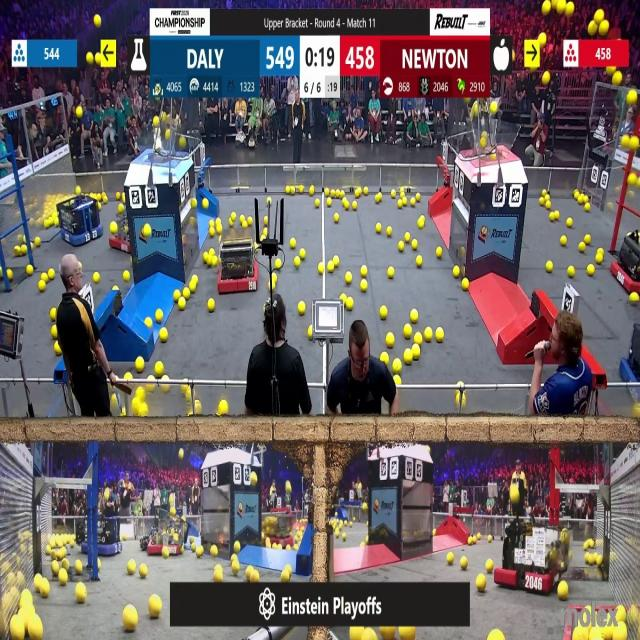ball_airborne: (511, 485, 521, 503), (598, 19, 608, 36), (553, 0, 565, 12), (588, 20, 597, 36), (630, 137, 640, 151), (628, 91, 638, 105), (614, 72, 623, 85), (541, 2, 549, 15), (540, 72, 548, 85), (565, 2, 573, 15), (86, 54, 94, 67), (250, 471, 258, 484), (622, 136, 630, 148), (595, 10, 603, 22), (538, 33, 545, 46), (490, 103, 498, 114), (628, 174, 636, 185), (95, 14, 102, 26), (472, 103, 478, 116), (76, 106, 82, 118), (152, 116, 158, 126), (180, 138, 186, 148), (163, 112, 169, 122), (481, 139, 487, 148), (179, 450, 184, 460), (491, 152, 496, 160), (482, 131, 487, 138), (165, 130, 168, 138)
ball_ground: (125, 608, 138, 633), (148, 596, 160, 619), (558, 583, 569, 601), (76, 585, 86, 604), (247, 568, 259, 582), (399, 627, 413, 639), (478, 574, 487, 591), (154, 360, 163, 376), (40, 583, 49, 599), (350, 627, 362, 639), (214, 566, 223, 581), (218, 402, 227, 417), (618, 606, 626, 622), (393, 359, 402, 373), (136, 356, 144, 371), (193, 403, 201, 418), (138, 405, 148, 417), (424, 328, 433, 341), (402, 351, 411, 364), (489, 631, 502, 640), (411, 310, 419, 324), (128, 561, 136, 575), (60, 570, 68, 584), (386, 335, 394, 348), (161, 328, 169, 341), (413, 334, 422, 345), (435, 328, 442, 342), (140, 564, 147, 578), (233, 560, 240, 574), (210, 544, 218, 556), (486, 560, 494, 572), (178, 299, 186, 311), (282, 569, 290, 581), (403, 324, 410, 337), (413, 346, 420, 359), (189, 279, 196, 292), (51, 561, 58, 574), (630, 292, 639, 302), (588, 266, 596, 277), (38, 281, 46, 292), (208, 300, 215, 312), (346, 273, 353, 285), (359, 280, 366, 292), (155, 310, 162, 322), (55, 344, 62, 356), (381, 307, 388, 319), (460, 558, 467, 570), (346, 300, 353, 312), (634, 406, 640, 420), (62, 560, 70, 570), (572, 630, 580, 640), (51, 325, 57, 338), (50, 309, 56, 322), (76, 561, 82, 574), (388, 268, 395, 279), (596, 253, 603, 264), (94, 273, 101, 284), (298, 303, 304, 315), (448, 553, 454, 565), (360, 266, 366, 278), (419, 216, 425, 228), (545, 263, 552, 273), (275, 258, 282, 268), (183, 288, 190, 298), (203, 200, 210, 210), (394, 376, 401, 386), (110, 222, 117, 232), (28, 266, 34, 277), (122, 271, 128, 282), (462, 279, 468, 290), (308, 326, 314, 337), (235, 541, 241, 552), (318, 264, 324, 275), (454, 268, 460, 279), (382, 352, 388, 363), (48, 270, 54, 280), (290, 239, 296, 249), (435, 248, 441, 258), (561, 236, 567, 246), (298, 249, 304, 259), (568, 268, 574, 278), (35, 238, 41, 248), (578, 243, 584, 253), (293, 257, 299, 267), (146, 318, 152, 328), (204, 252, 210, 262), (335, 256, 341, 266), (174, 289, 180, 299), (195, 548, 201, 558), (344, 200, 350, 210), (164, 550, 170, 560), (14, 245, 20, 255), (179, 544, 185, 554), (310, 185, 316, 195), (22, 246, 29, 254), (190, 543, 195, 554), (566, 218, 572, 227), (586, 236, 592, 245), (117, 205, 123, 214), (403, 234, 409, 243), (212, 258, 218, 267), (544, 201, 550, 210), (271, 282, 277, 291), (355, 188, 361, 197), (413, 240, 418, 250), (417, 256, 422, 266), (398, 242, 403, 252), (7, 270, 12, 280), (387, 226, 392, 236), (327, 264, 332, 274), (551, 212, 556, 222), (352, 202, 357, 212), (377, 192, 382, 202), (555, 211, 560, 221), (76, 185, 81, 195), (341, 292, 347, 300), (335, 214, 341, 222), (585, 204, 591, 212), (396, 200, 402, 208), (362, 502, 368, 510), (264, 226, 270, 234), (190, 200, 196, 208), (363, 537, 369, 545), (127, 373, 133, 381), (377, 223, 382, 232), (343, 534, 348, 543), (210, 229, 215, 238), (216, 224, 221, 233), (390, 190, 396, 197), (227, 219, 233, 226), (324, 188, 330, 195), (259, 236, 265, 243), (539, 199, 544, 207), (416, 192, 421, 200), (326, 200, 331, 208), (232, 212, 237, 220), (363, 187, 368, 195), (298, 185, 303, 193), (337, 189, 342, 197), (316, 200, 320, 209), (412, 199, 416, 208), (121, 409, 125, 418), (98, 561, 102, 570), (265, 216, 269, 225), (187, 412, 193, 418), (120, 192, 124, 201), (233, 555, 238, 562), (215, 218, 220, 225), (399, 191, 404, 198), (103, 198, 108, 205), (468, 536, 472, 544), (273, 274, 277, 282), (116, 191, 120, 199), (248, 217, 252, 225), (241, 215, 245, 223), (268, 198, 272, 206), (287, 543, 292, 549), (273, 542, 278, 548), (210, 248, 214, 255), (488, 535, 492, 542), (432, 529, 436, 536), (402, 200, 406, 207), (98, 204, 102, 211), (210, 220, 214, 226), (360, 541, 364, 547), (345, 521, 349, 527), (544, 193, 548, 199)
goal: (464, 122, 520, 160), (129, 130, 187, 160)
robot_blue: (58, 190, 101, 248), (75, 518, 121, 559), (622, 337, 640, 384)
robot_red: (498, 518, 568, 596), (219, 224, 259, 292), (147, 514, 190, 556), (612, 237, 640, 296), (261, 512, 294, 546), (108, 215, 130, 255)
